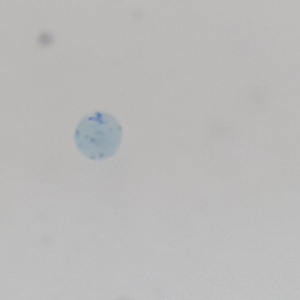aggregate reticulocyte: (72, 110, 125, 162)
